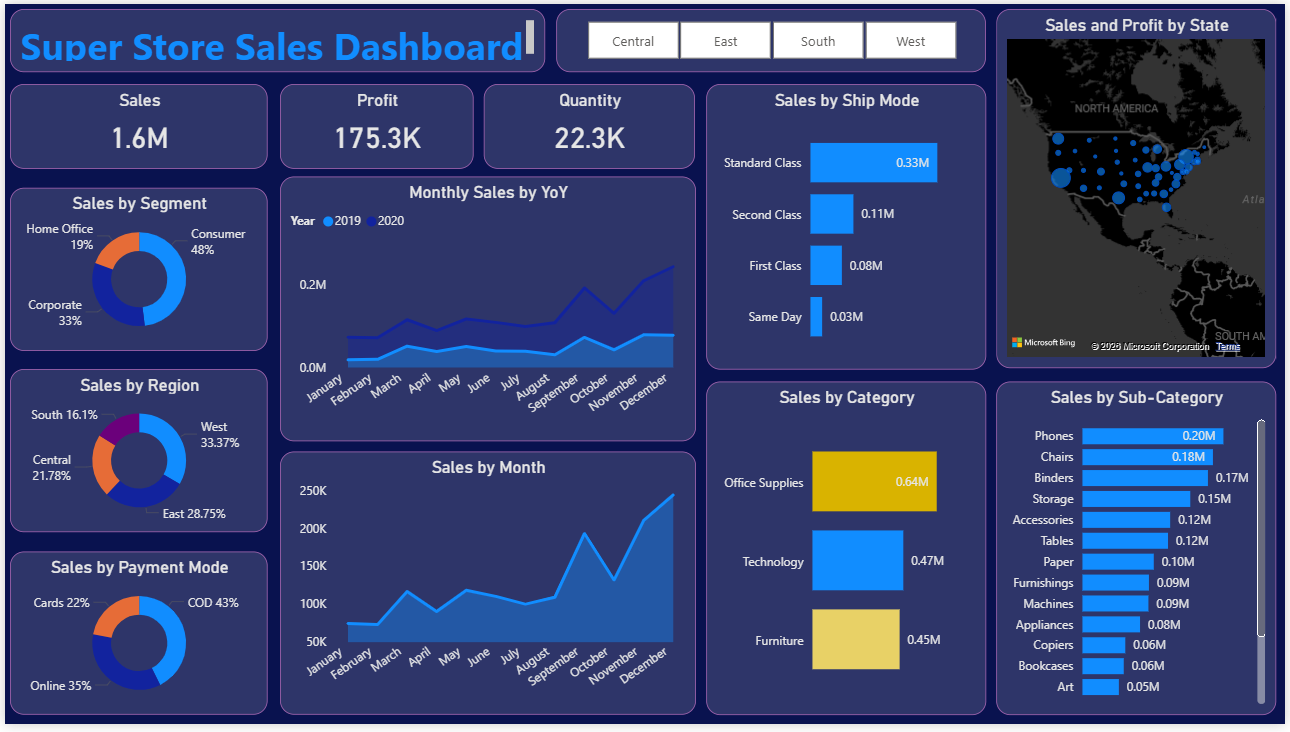

This screenshot's page, from the dashboard's own definition file:
{"tool":"powerbi","page":{"name":"Page 1","canvas":[1280,720],"ordinal":0},"visuals":[{"type":"clusteredBarChart","title":"Sales by Ship Mode","fields":{"Category":["SuperStore_Sales_Dataset.Ship Mode"],"Y":["Sum(SuperStore_Sales_Dataset.Sales)"]},"box":[701.2,79.6,279.9,285.4],"z":0},{"type":"clusteredBarChart","title":"Sales by Sub-Category","fields":{"Category":["SuperStore_Sales_Dataset.Sub-Category"],"Y":["Sum(SuperStore_Sales_Dataset.Sales)"]},"box":[990.7,377.4,279.9,333.4],"z":1000},{"type":"stackedAreaChart","title":"Monthly Sales by YoY","fields":{"Y":["Sum(SuperStore_Sales_Dataset.Sales)"],"Category":["SuperStore_Sales_Dataset.Order Date.Variation.Date Hierarchy.Month","SuperStore_Sales_Dataset.Order Date.Variation.Date Hierarchy.Day"],"Series":["SuperStore_Sales_Dataset.Order Date.Variation.Date Hierarchy.Year"]},"box":[274.4,172.9,415.8,264.8],"z":2000},{"type":"map","fields":{"Category":["SuperStore_Sales_Dataset.State"],"Size":["Sum(SuperStore_Sales_Dataset.Sales)"]},"box":[990.7,5.5,279.9,359.5],"z":3000},{"type":"donutChart","title":"Sales by Segment","fields":{"Category":["SuperStore_Sales_Dataset.Segment"],"Y":["Sum(SuperStore_Sales_Dataset.Sales)"]},"box":[5.5,183.9,258,163.3],"z":4000},{"type":"donutChart","title":"Sales by Payment Mode","fields":{"Category":["SuperStore_Sales_Dataset.Payment Mode"],"Y":["Sum(SuperStore_Sales_Dataset.Sales)"]},"box":[5.5,547.5,258,163.3],"z":5000},{"type":"slicer","fields":{"Values":["SuperStore_Sales_Dataset.Region"]},"box":[551.6,5.5,429.5,63.1],"z":6000},{"type":"textbox","box":[5.5,5.5,535.2,63.1],"z":7000},{"type":"card","title":"Sales","fields":{"Values":["Sum(SuperStore_Sales_Dataset.Sales)"]},"box":[5.5,79.6,258,85.1],"z":8000},{"type":"card","title":"Quantity","fields":{"Values":["Sum(SuperStore_Sales_Dataset.Quantity)"]},"box":[478.9,79.6,211.3,85.1],"z":9000},{"type":"card","title":"Profit","fields":{"Values":["Sum(SuperStore_Sales_Dataset.Profit)"]},"box":[274.4,79.6,193.5,85.1],"z":10000},{"type":"donutChart","title":"Sales by Region","fields":{"Y":["Sum(SuperStore_Sales_Dataset.Sales)"],"Category":["SuperStore_Sales_Dataset.Region"]},"box":[5.5,365,258,163.3],"z":11000},{"type":"clusteredBarChart","title":"Sales by Category","fields":{"Category":["SuperStore_Sales_Dataset.Category"],"Y":["Sum(SuperStore_Sales_Dataset.Sales)"]},"box":[701.2,377.4,279.9,333.4],"z":12000},{"type":"stackedAreaChart","title":" Sales by Month","fields":{"Y":["Sum(SuperStore_Sales_Dataset.Sales)"],"Category":["SuperStore_Sales_Dataset.Order Date.Variation.Date Hierarchy.Month"]},"box":[274.4,447.3,415.8,263.5],"z":13000}]}

Visuals, with their boxes in screenshot pixels (x1, y1, x2, y2), scaled from the page's 1280x720 canvas onto the 1290x732 screenshot:
"Sales by Ship Mode" clusteredBarChart: box=[707, 81, 989, 371]
"Sales by Sub-Category" clusteredBarChart: box=[998, 384, 1281, 723]
"Monthly Sales by YoY" stackedAreaChart: box=[277, 176, 696, 445]
map - SuperStore_Sales_Dataset.State x Sum(SuperStore_Sales_Dataset.Sales): box=[998, 6, 1281, 371]
"Sales by Segment" donutChart: box=[6, 187, 266, 353]
"Sales by Payment Mode" donutChart: box=[6, 557, 266, 723]
slicer - SuperStore_Sales_Dataset.Region: box=[556, 6, 989, 70]
textbox: box=[6, 6, 545, 70]
"Sales" card: box=[6, 81, 266, 167]
"Quantity" card: box=[483, 81, 696, 167]
"Profit" card: box=[277, 81, 472, 167]
"Sales by Region" donutChart: box=[6, 371, 266, 537]
"Sales by Category" clusteredBarChart: box=[707, 384, 989, 723]
" Sales by Month" stackedAreaChart: box=[277, 455, 696, 723]
